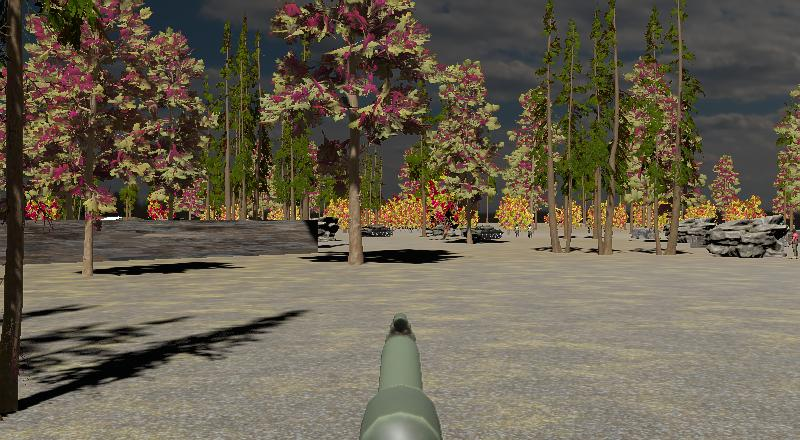Human: (791, 227, 800, 261)
Tank: (469, 221, 505, 242), (359, 221, 397, 238)
